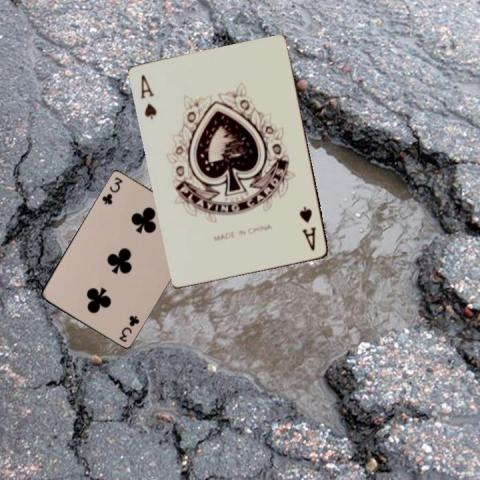3c: (99, 173, 124, 206), (116, 312, 141, 343)
As: (137, 72, 159, 121), (297, 204, 317, 253)
